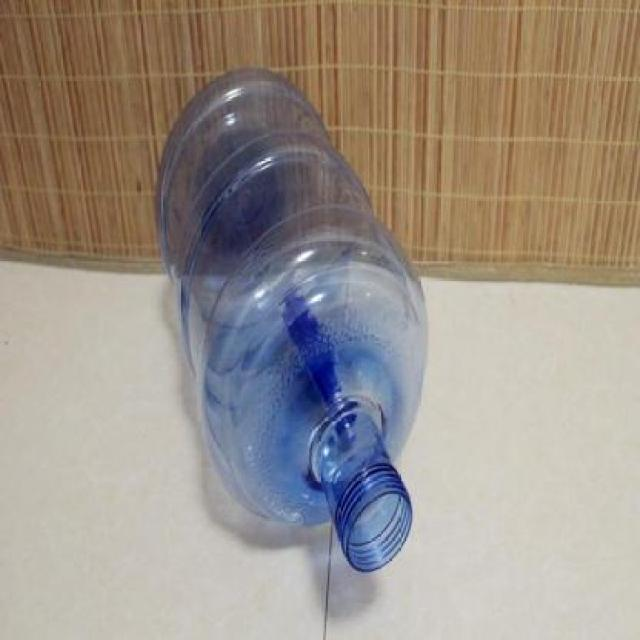coolerbottle: (150, 60, 438, 585)
